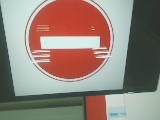stop: (25, 3, 116, 80)
